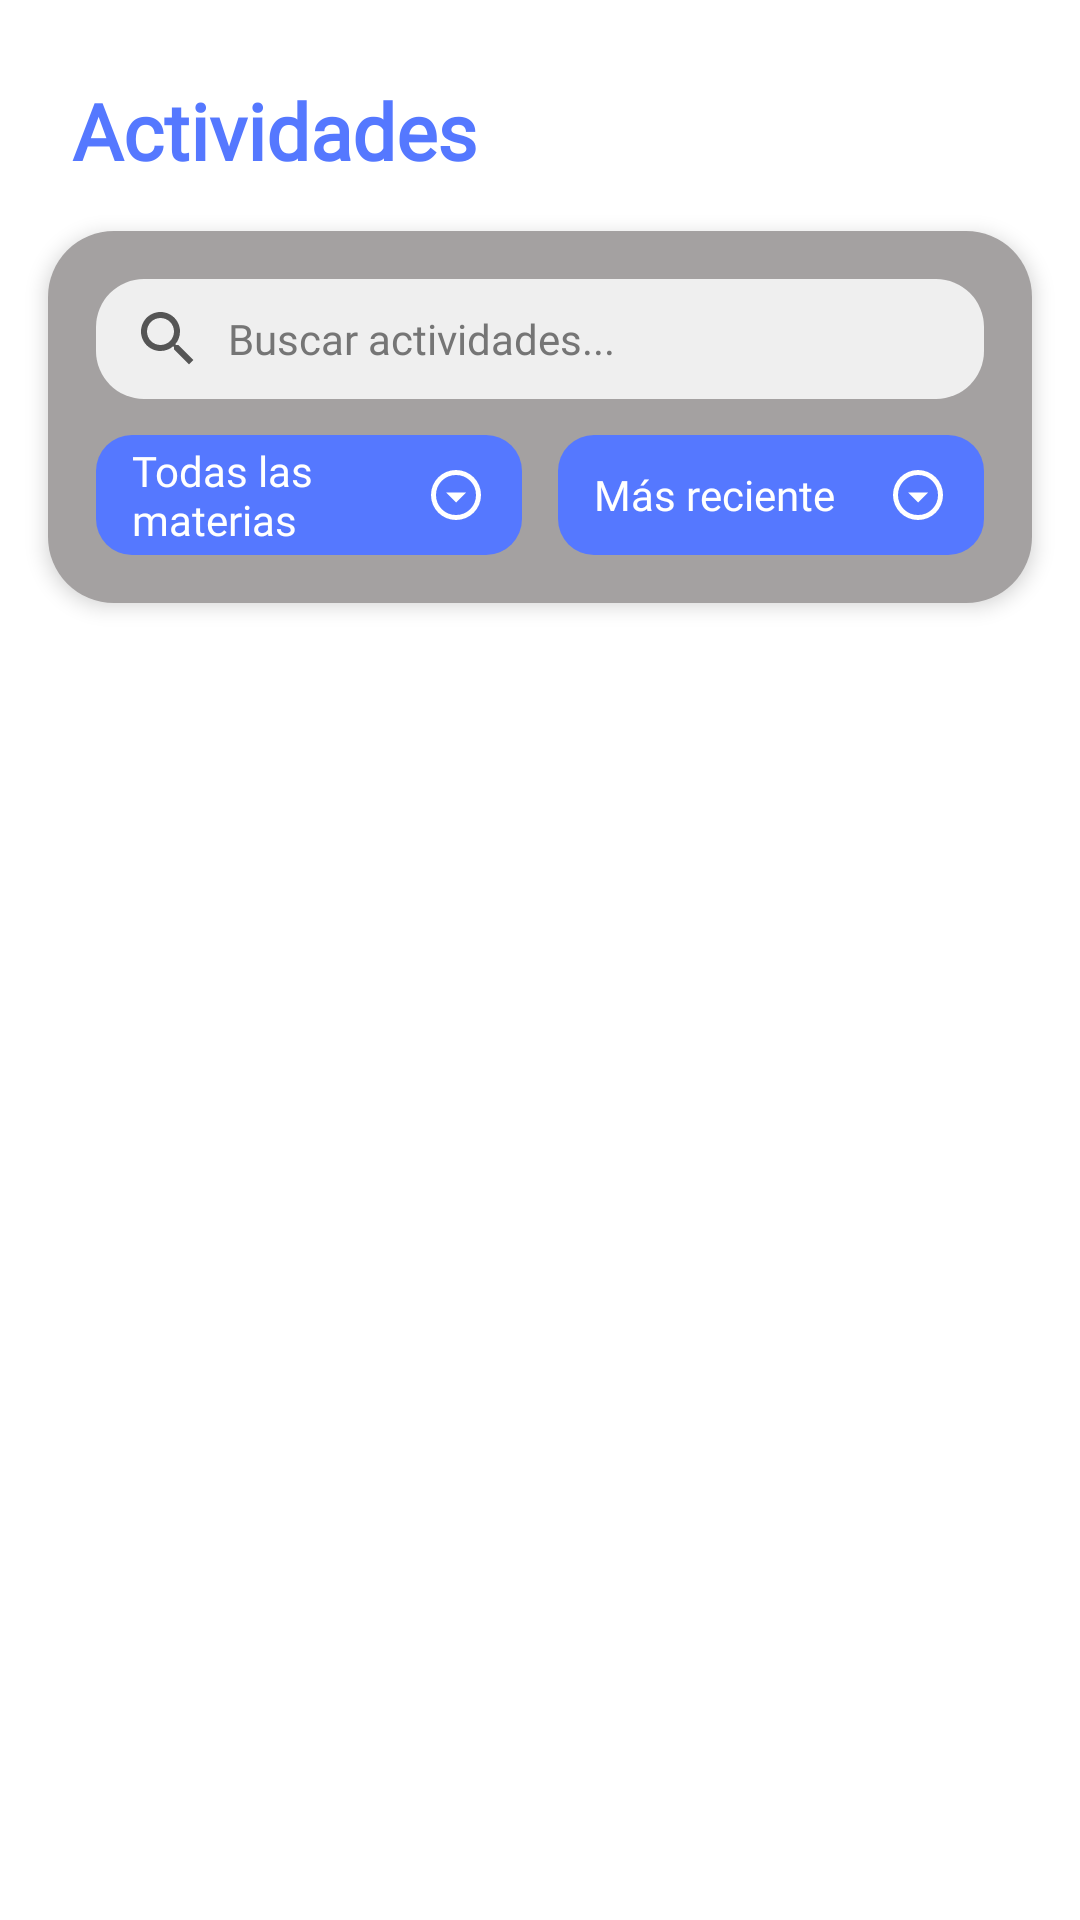

Icons on this 1080 x 1920 Android screen, each with its box as (x1,y1,x2,y2):
arrow drop down: (431,470,481,520), (893,470,943,520)
